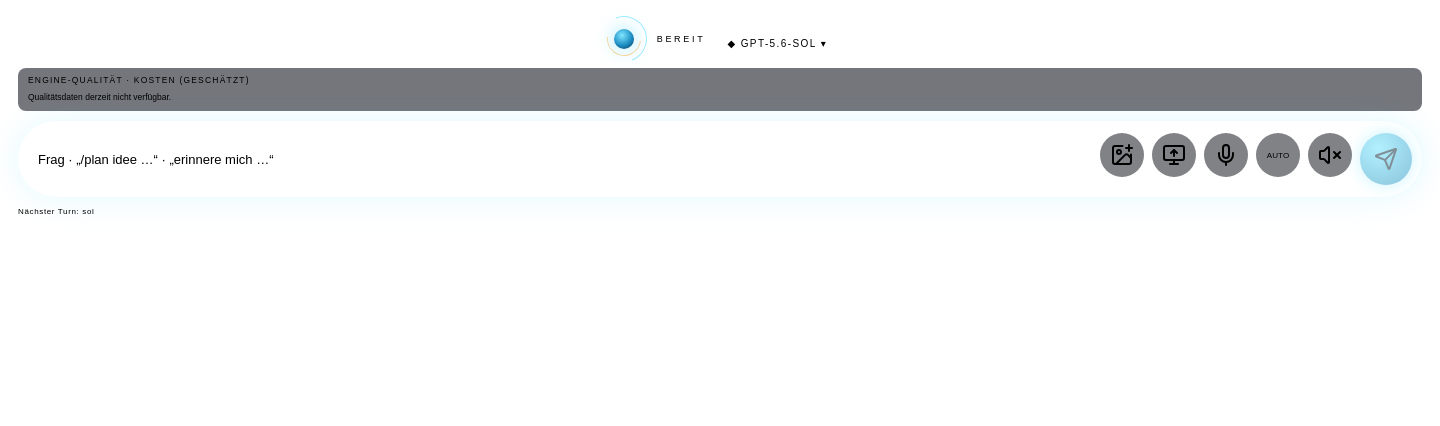
Test case: JarvisChat S3.6 — Vorlese-Toggle (/api/audio/speak) › Toggle OFF (Default): speakText wird NIE gerufen
Type "was ist offen?" into the field named "Nachricht an Jarvis". click: [564, 159]
box: [38,137,1090,181]
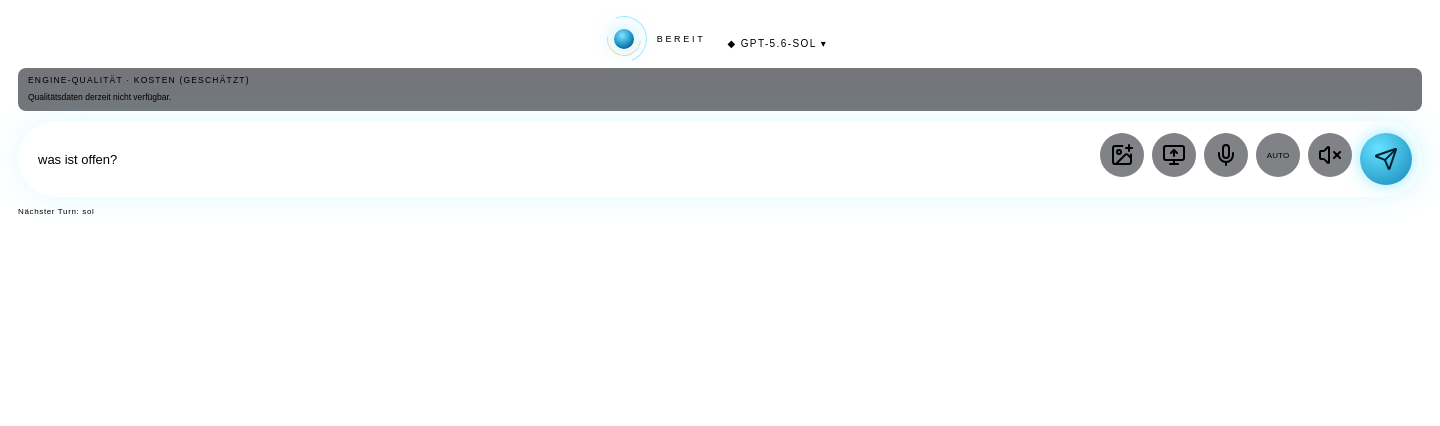
Click the button named "Nachricht senden". click: [1386, 159]
box: [1360,133,1412,185]
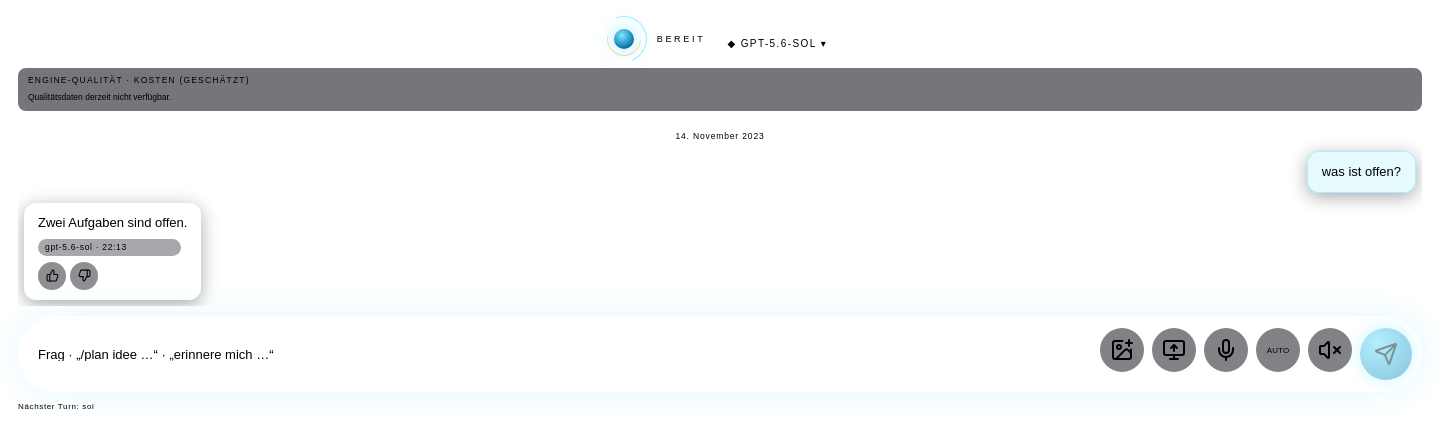
Now the text "Zwei Aufgaben sind offen." is shown, box [38,214,187,230]
